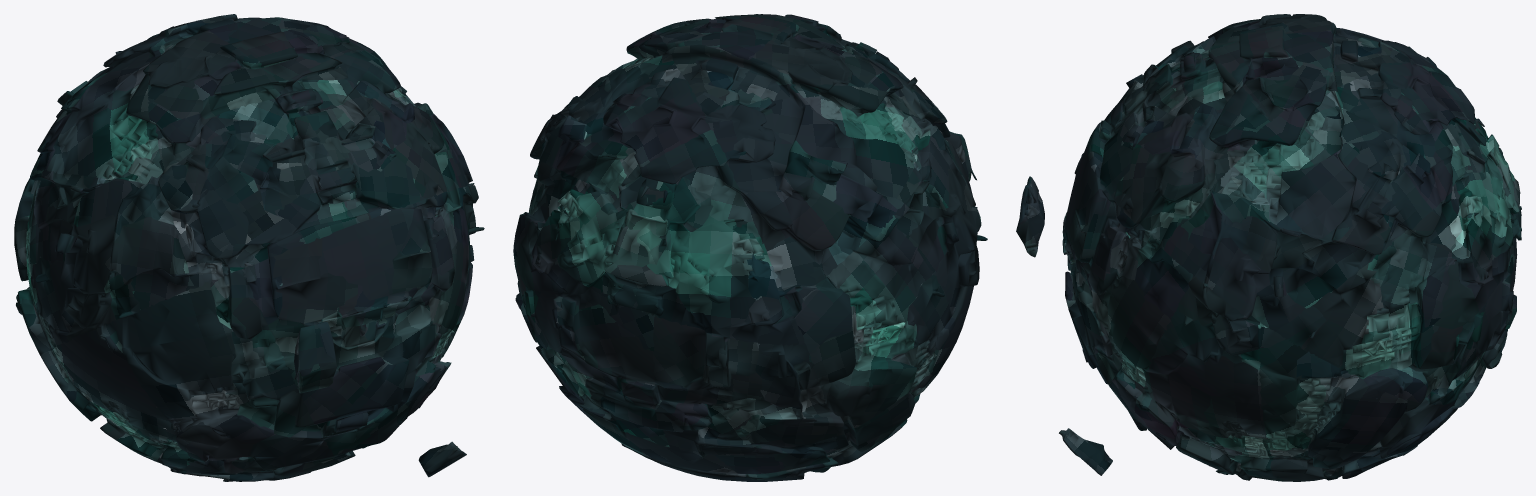
File: prop_core.glb
3 renders of one model, left to right at view 1: azimuth 30°, elevation 25°; view 2: azimuth 150°, elevation 25°; view 3: azimuth 270°, elevation 25°, orthographic.
Parts seen in each view (by area): view 1: tripo_node_5d10f60b-52cd-4f28-a21d-b6aa4e100f43; view 2: tripo_node_5d10f60b-52cd-4f28-a21d-b6aa4e100f43; view 3: tripo_node_5d10f60b-52cd-4f28-a21d-b6aa4e100f43.
Part boxes in pixels (<box>): tripo_node_5d10f60b-52cd-4f28-a21d-b6aa4e100f43: <box>14,14,484,481</box>; tripo_node_5d10f60b-52cd-4f28-a21d-b6aa4e100f43: <box>513,14,987,481</box>; tripo_node_5d10f60b-52cd-4f28-a21d-b6aa4e100f43: <box>1016,14,1521,481</box>.
Bounding box in the file's own units: 0.9021 × 0.9154 × 0.9798.
1 material, 1 textured.
